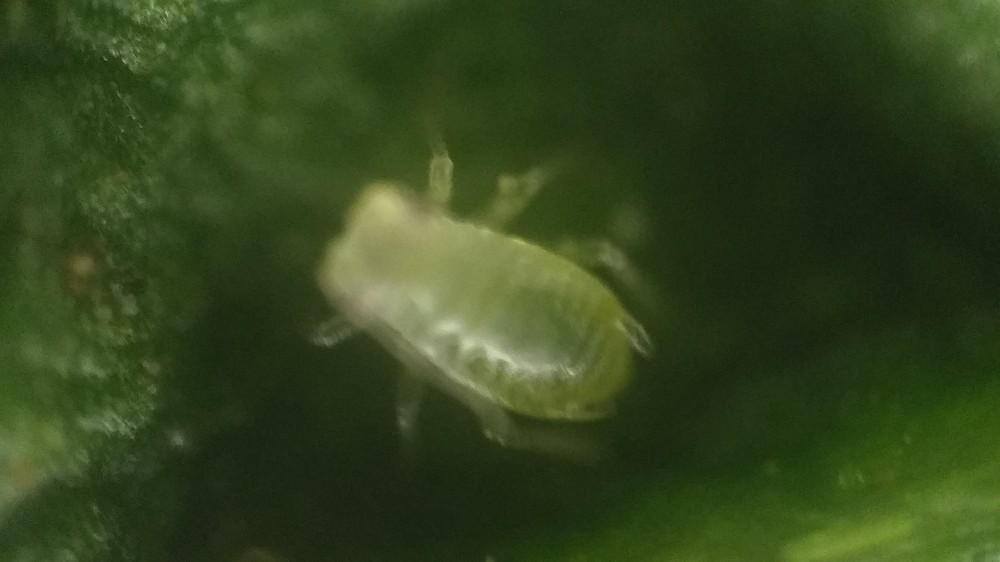Pulgon: (270, 112, 707, 494)
